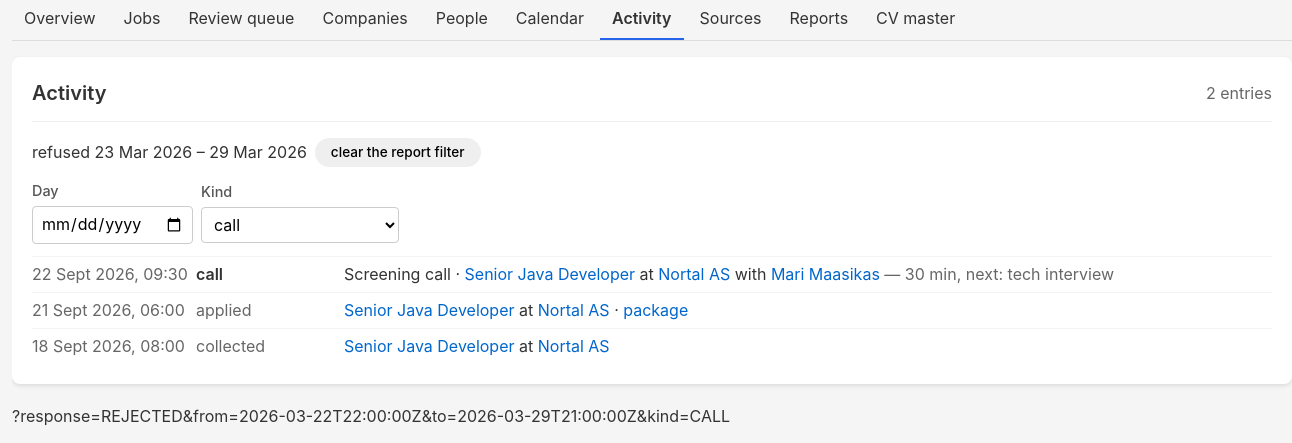
it: MasiActivity › shows a report's responses: the caller's rows of one kind in the period, named, and clears back to the log
Expected: the element "report filter" shows "refused 23 Mar 2026 – 29 Mar 2026", [32,138,481,167]
Click the button "clear the report filter".
click(398, 153)  # box [315,138,481,167]
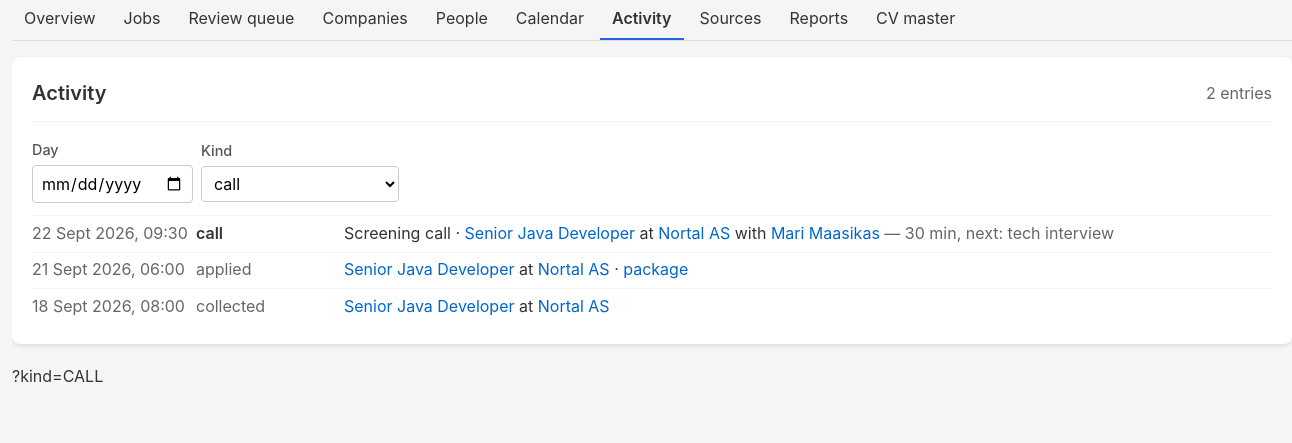
Expected: the button "report filter" is gone
Expected: the text with test id "search" reads "?kind=CALL", [12,366,103,386]
